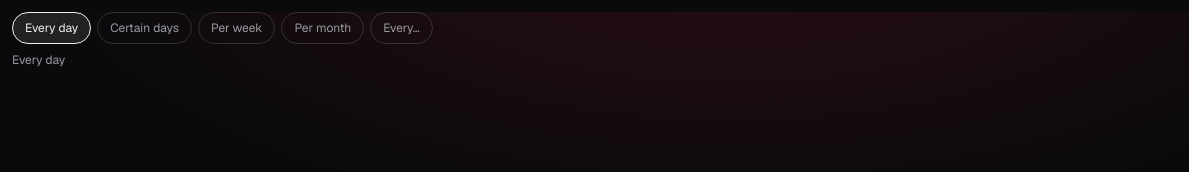
FrequencyPicker › 'Certain days': defaults to Mon/Wed/Fri, toggles days, summarises them, and flags an empty selection
This screenshot has width=1189, height=172.
Click the radio button labelled "Certain days": (145,28) [97,12,192,44]
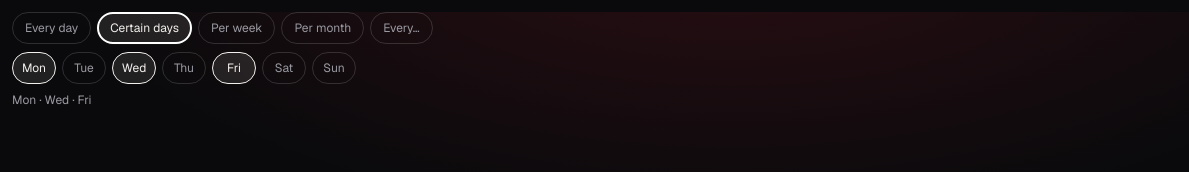
Now the text with test id "frequency-summary" reads "Mon · Wed · Fri", box [12,92,91,108]
Click the button with aria-label "Tuesday": (84,68) [62,52,106,84]
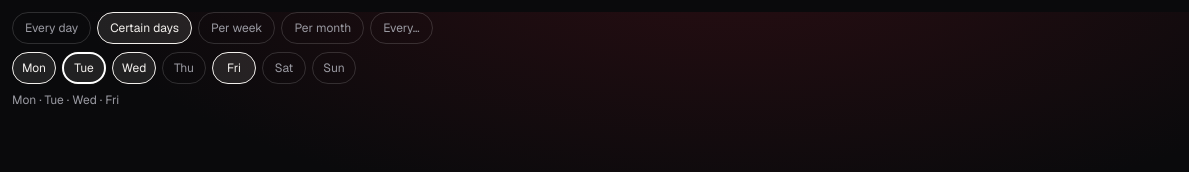
Now the button with aria-label "Tuesday" is pressed, box [62,52,106,84]
Click the button with aria-label "Monday": (34,68) [12,52,56,84]
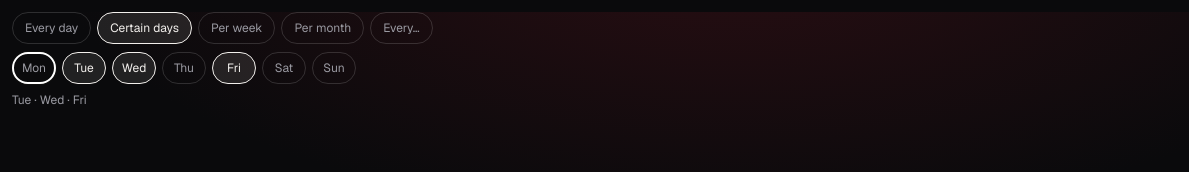
Click the button with aria-label "Tuesday": (84,68) [62,52,106,84]
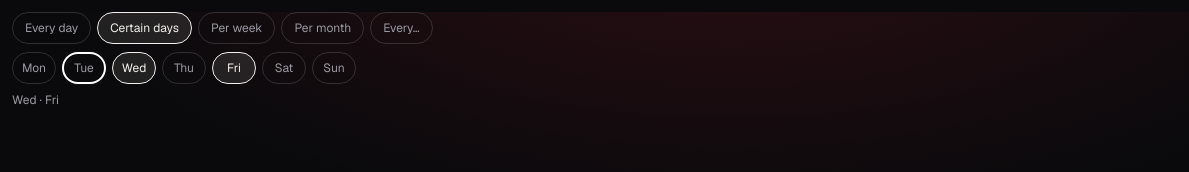
Click the button with aria-label "Wednesday": (134,68) [112,52,156,84]
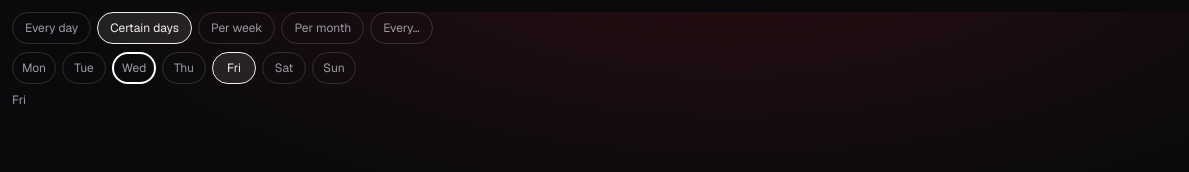
Click the button with aria-label "Friday": (234,68) [212,52,256,84]
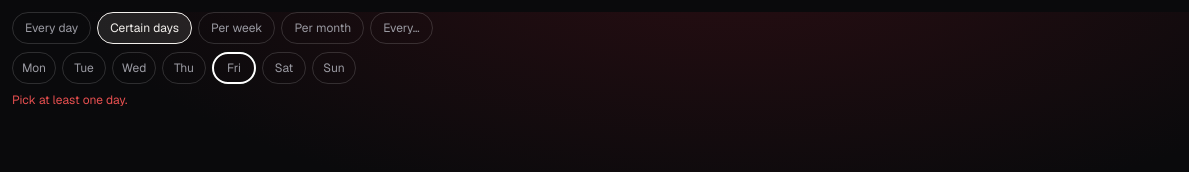
Now the text with test id "frequency-summary" shows "Pick at least one day", box [12,92,127,108]
